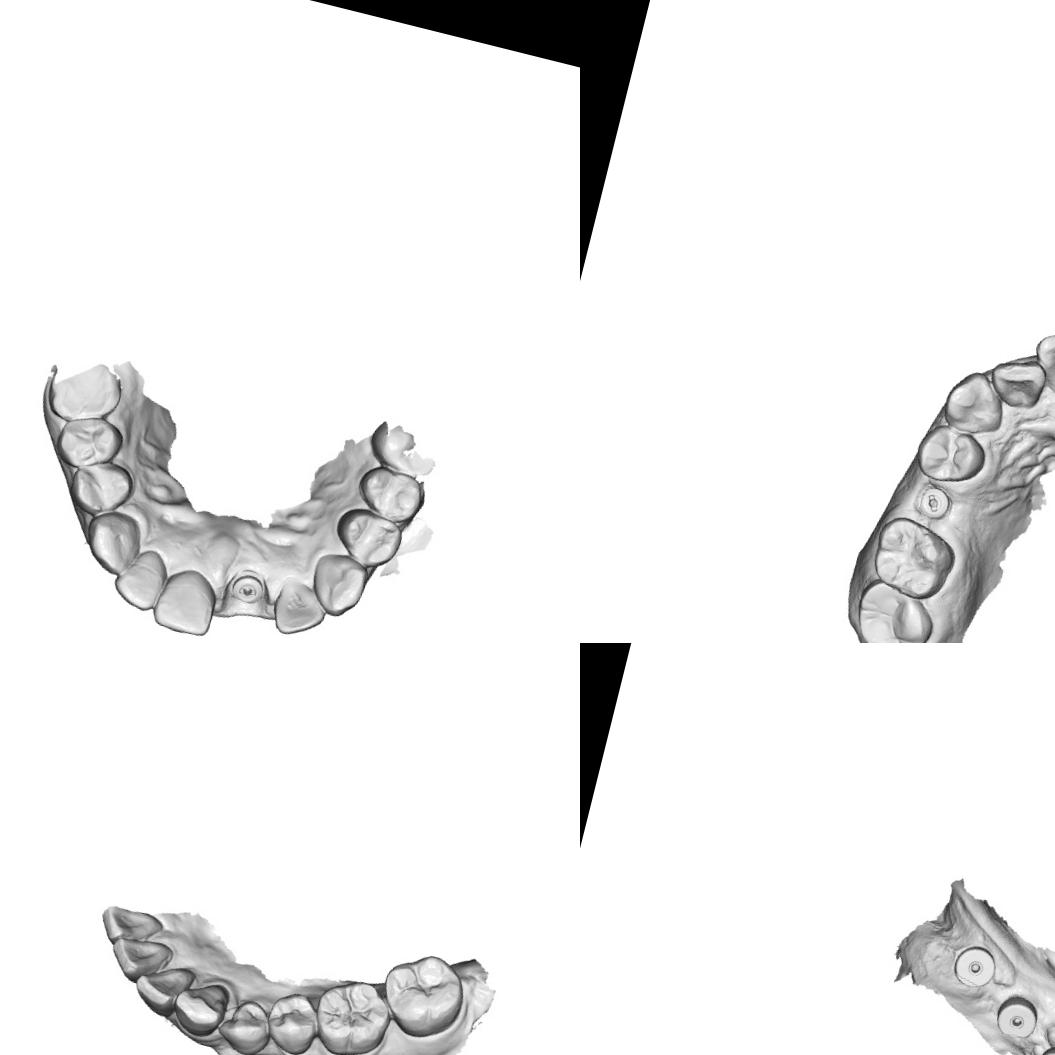canine: (936, 364, 1013, 442), (303, 547, 372, 622), (78, 505, 146, 580), (166, 972, 232, 1043)
implant: (948, 941, 997, 992), (992, 992, 1036, 1040)
implant_minus: (225, 565, 269, 608), (912, 480, 954, 522)
incisor: (149, 561, 223, 640), (108, 542, 173, 614), (266, 575, 332, 643), (128, 956, 194, 1023), (104, 930, 176, 990), (983, 350, 1050, 414), (94, 899, 168, 956), (1024, 319, 1055, 403)
molar: (371, 944, 472, 1048), (864, 509, 962, 604), (304, 971, 398, 1055), (845, 575, 943, 643)
premolar: (909, 418, 992, 492), (326, 502, 406, 574), (50, 408, 128, 478), (350, 460, 430, 528), (62, 452, 137, 524), (258, 986, 325, 1055), (212, 992, 277, 1055)
